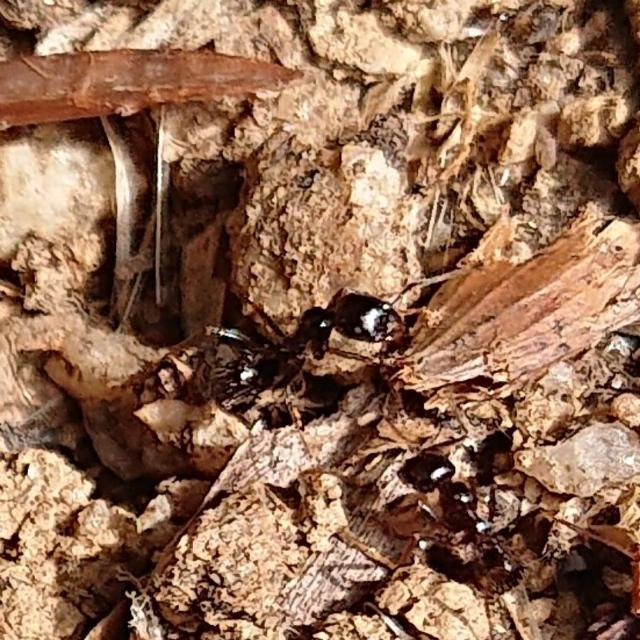Messor: (182, 270, 440, 420)
